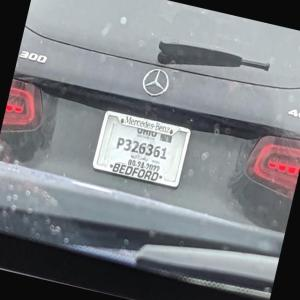Plate: (91, 109, 192, 190)
